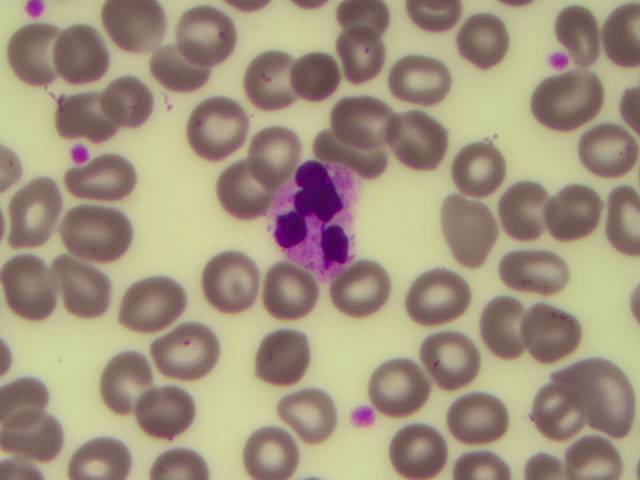Platelets: (348, 402, 375, 426), (23, 1, 52, 22), (547, 54, 569, 68), (74, 145, 90, 163)
RBC: (7, 24, 69, 87), (52, 24, 114, 87), (92, 62, 154, 125), (53, 78, 115, 141), (70, 156, 132, 219), (1, 179, 63, 242), (1, 249, 63, 312), (52, 261, 114, 324), (71, 204, 133, 267), (119, 272, 181, 335), (90, 341, 152, 404), (133, 380, 195, 443), (4, 407, 66, 470), (153, 320, 215, 383), (199, 248, 261, 311), (258, 260, 320, 323), (245, 328, 307, 391), (278, 384, 340, 447), (232, 417, 294, 480), (206, 162, 268, 225), (237, 126, 299, 189), (185, 92, 247, 155), (149, 39, 211, 102), (172, 9, 234, 72), (335, 29, 397, 92), (292, 50, 354, 113), (243, 43, 305, 106), (319, 118, 381, 181), (329, 87, 391, 150), (388, 108, 450, 171), (387, 51, 449, 114), (451, 11, 513, 74), (449, 131, 511, 194), (441, 200, 503, 263), (404, 258, 466, 321), (336, 257, 398, 320), (416, 326, 478, 389), (374, 354, 436, 417), (391, 417, 453, 480), (440, 381, 502, 444), (522, 379, 584, 442), (565, 357, 627, 420), (512, 294, 574, 357), (471, 291, 533, 354), (501, 240, 563, 303), (490, 171, 552, 234), (545, 176, 607, 239), (578, 124, 640, 187), (542, 80, 604, 143), (106, 1, 168, 63), (550, 1, 608, 52)
WBC: (272, 160, 358, 274)
